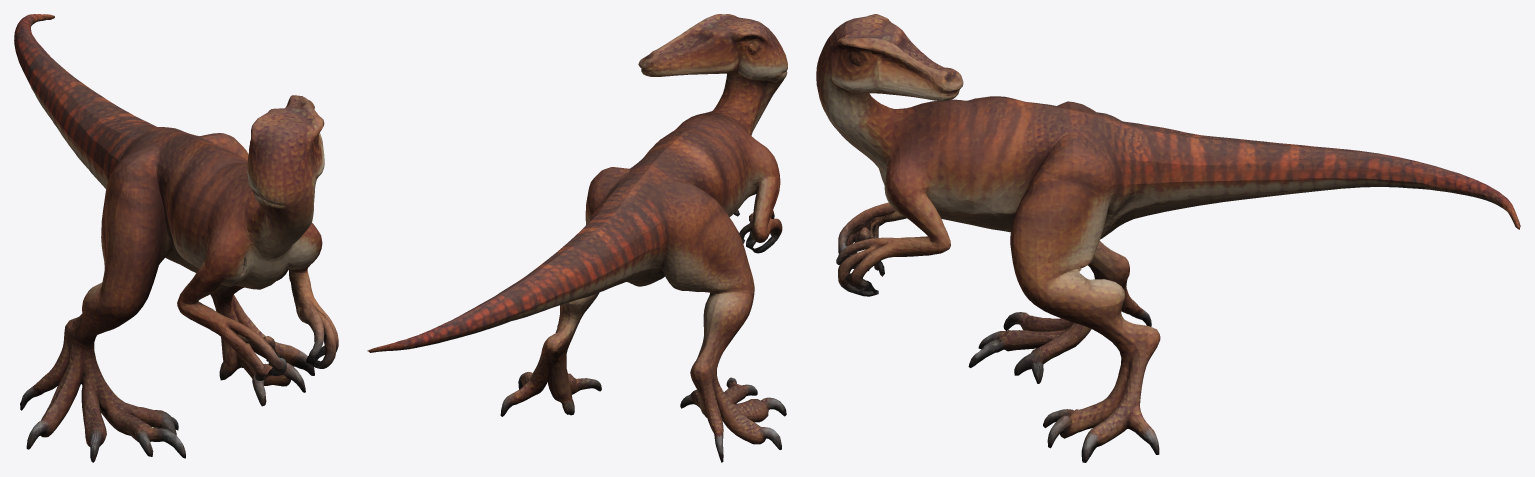
The picture shows the model from 3 angles, left to right: view 1: azimuth 30°, elevation 25°; view 2: azimuth 150°, elevation 25°; view 3: azimuth 270°, elevation 25°; orthographic projection. The views are drawn at different scales.
Visible parts, largest first — view 1: world; view 2: world; view 3: world.
Part boxes in pixels (x1,y1,x2,y2): world: [14, 14, 338, 462]; world: [367, 14, 787, 462]; world: [816, 14, 1520, 462].
Size of the model in its own units: 1.45 by 1.75 by 3.
1 material, 1 textured.
